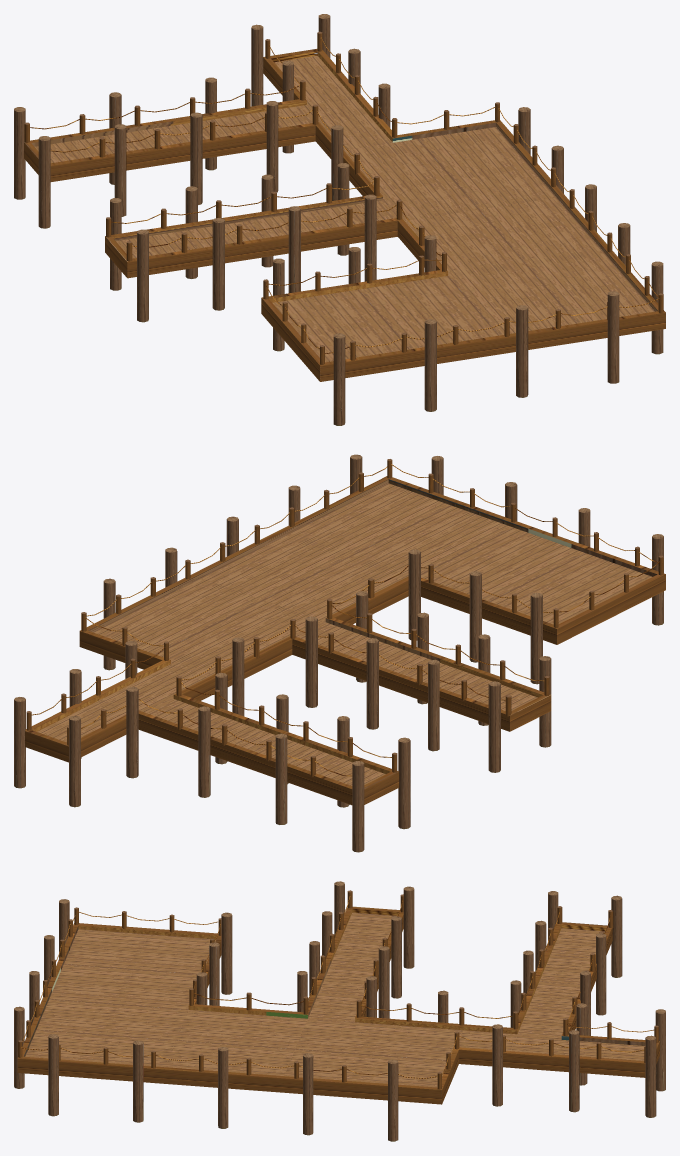
Rendered from PonteGrande.fbx.
The picture shows the model from 3 angles, top to bottom: view 1: azimuth 30°, elevation 25°; view 2: azimuth 150°, elevation 25°; view 3: azimuth 270°, elevation 25°; orthographic projection. The views are drawn at different scales.
Visible parts, largest first — view 1: defaultMaterial.012; view 2: defaultMaterial.012; view 3: defaultMaterial.012.
Boxes of the visible parts, box(x1,y1,x2,y2) form: defaultMaterial.012: box(14, 14, 665, 425); defaultMaterial.012: box(14, 454, 665, 852); defaultMaterial.012: box(14, 881, 665, 1141).
Bounding box in the file's own units: 12.7 × 2.49 × 18.93.
